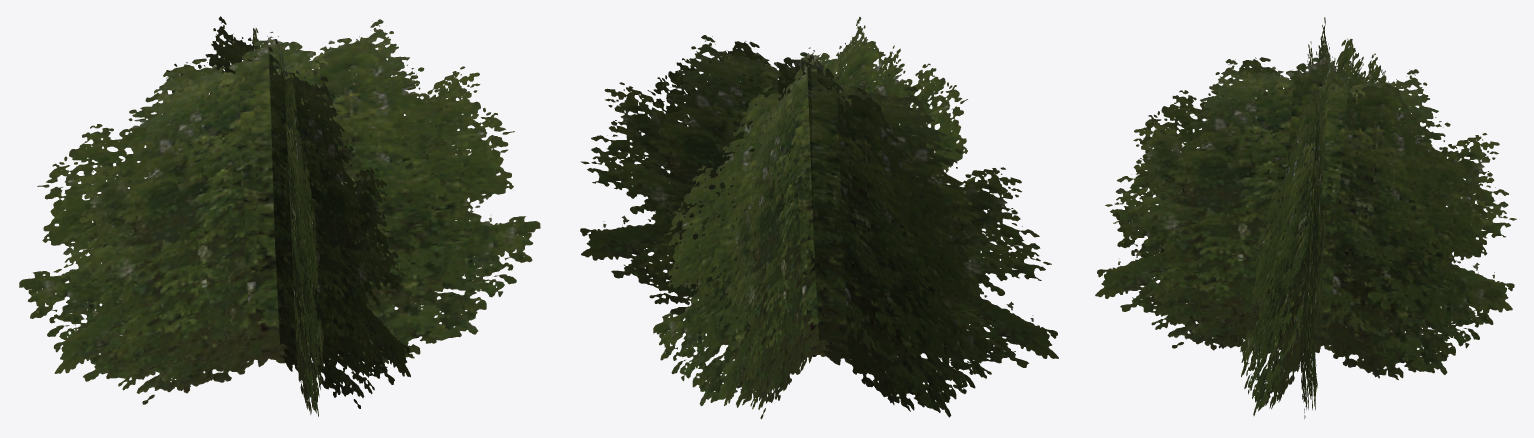
Rendered from forest_bush010.glb.
3 views of the same model, side by side, from view 1: azimuth 30°, elevation 25°; view 2: azimuth 150°, elevation 25°; view 3: azimuth 270°, elevation 25° (orthographic). The views are drawn at different scales.
Bounding box in the file's own units: 2.17 × 1.52 × 1.8.
1 material, 1 textured.
